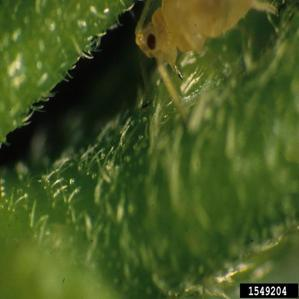Green peach aphid: (116, 0, 299, 121)
